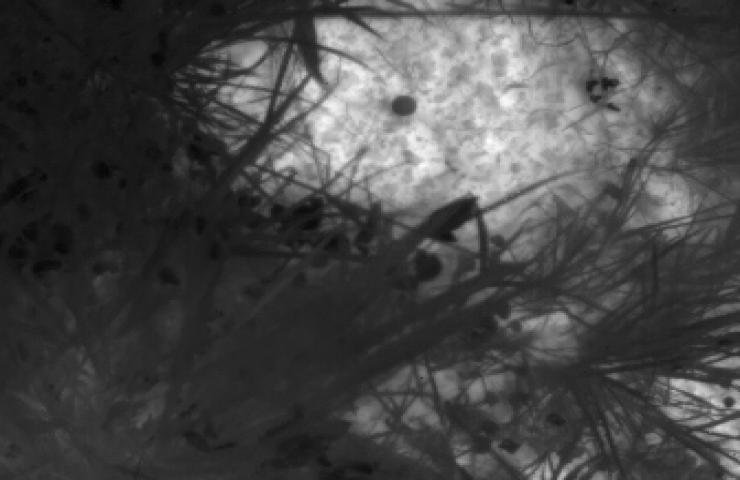landmines: (171, 9, 710, 265)
